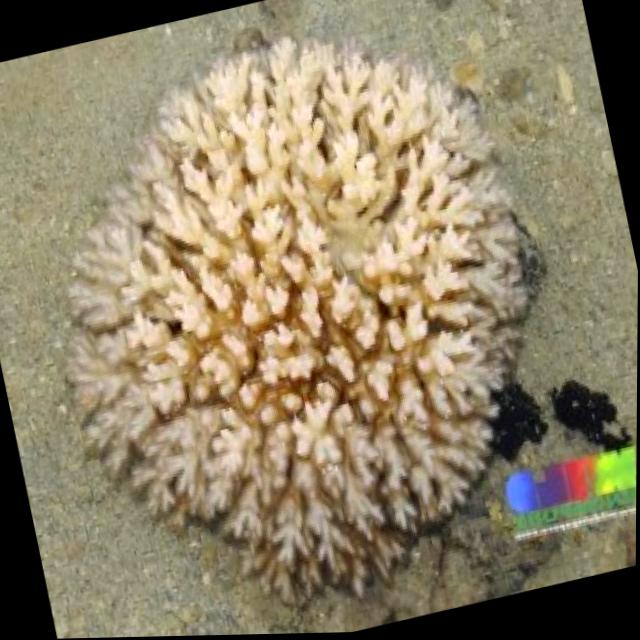Bleached Coral: (4, 4, 552, 555)
